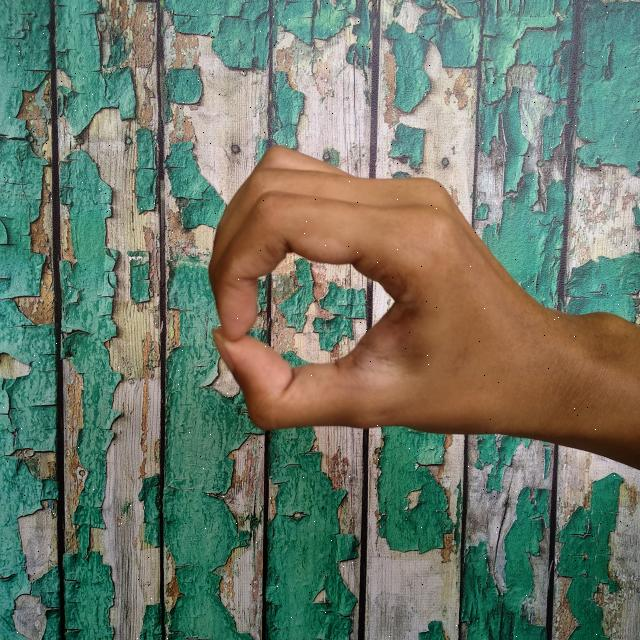O: (194, 133, 640, 477)
